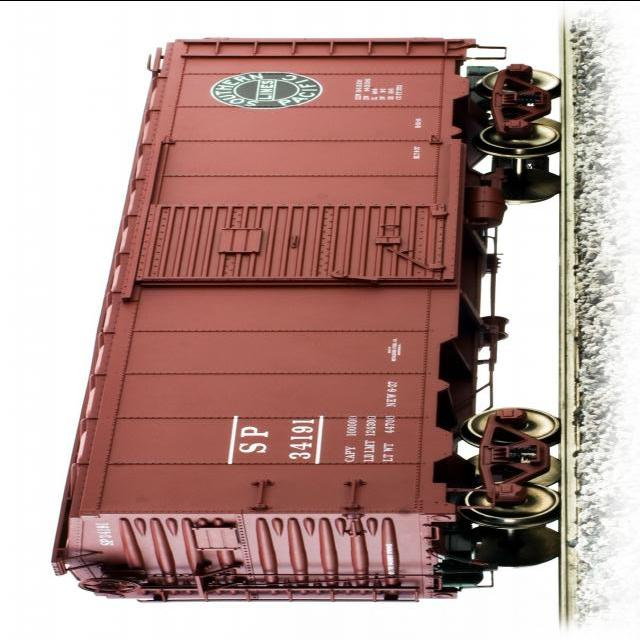wagon: (286, 417, 316, 460)
